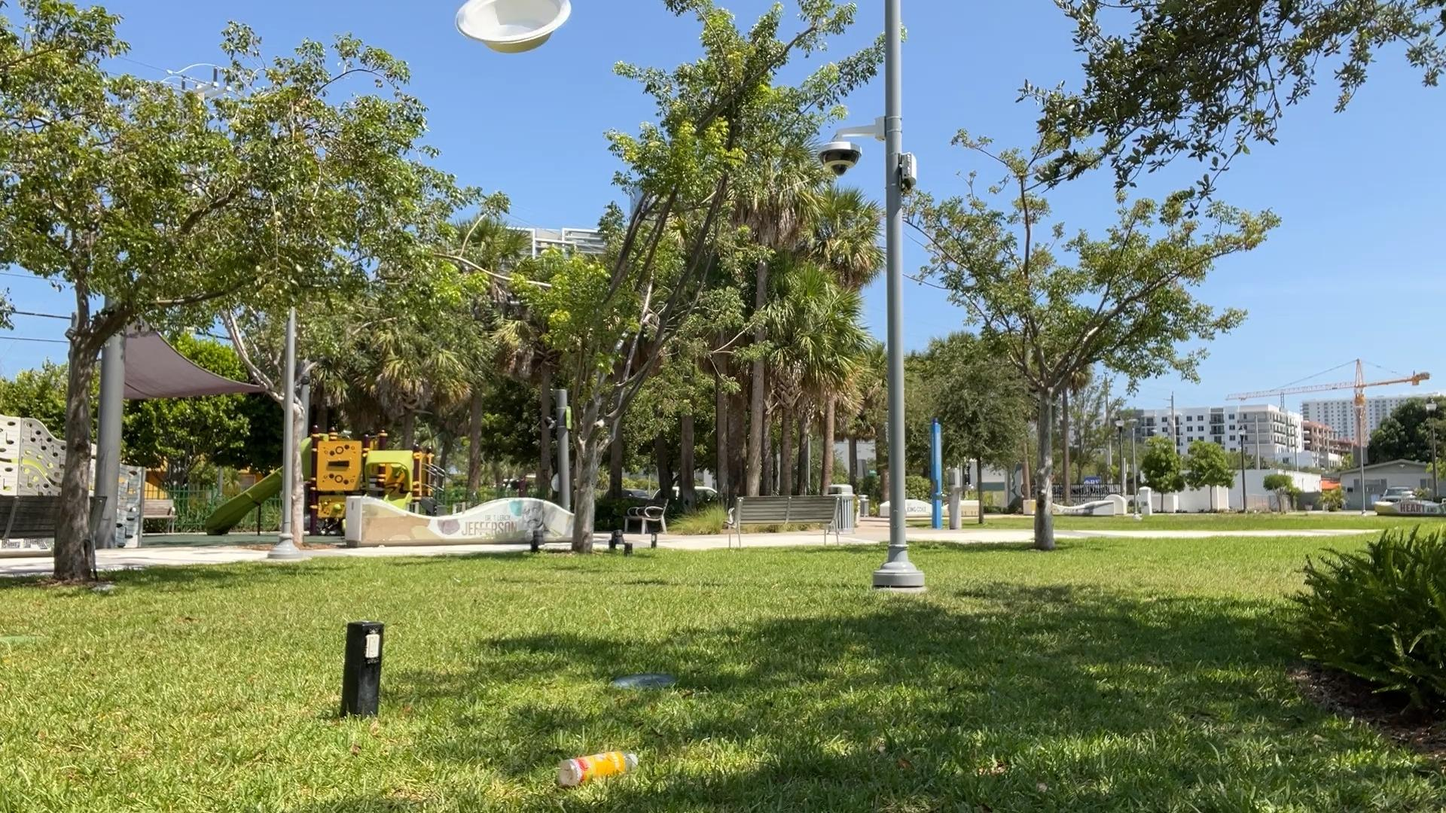Trash: (446, 0, 590, 61), (550, 735, 646, 800)
